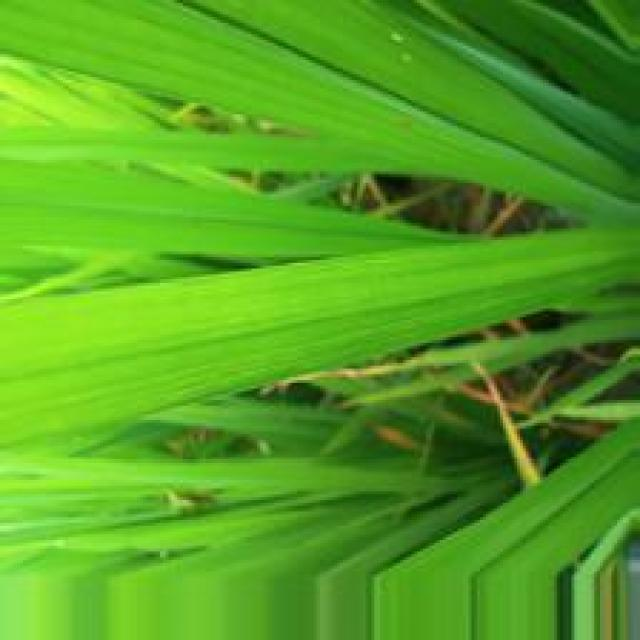HealthyLeaf: (101, 236, 549, 417)
